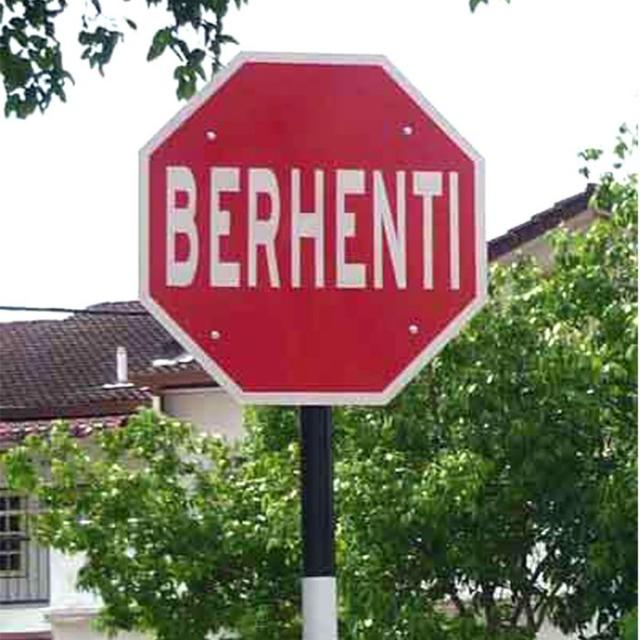stop-sign: (127, 36, 509, 378)
